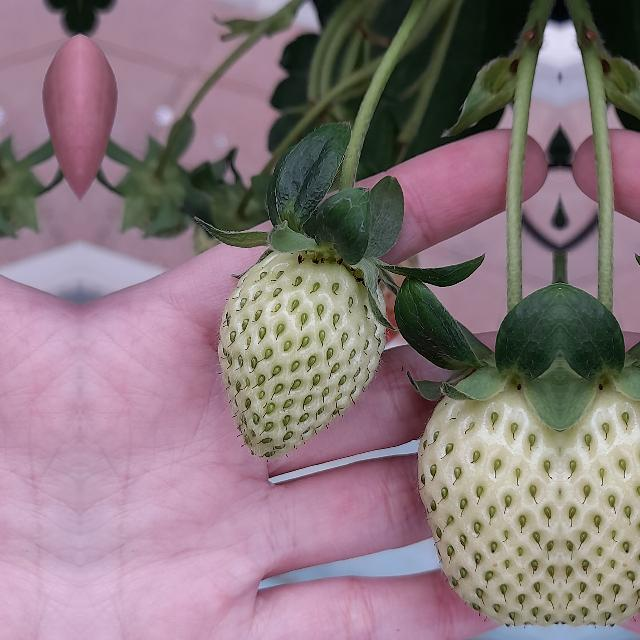Health_25: (414, 372, 560, 628), (218, 252, 384, 458), (560, 372, 640, 628)
